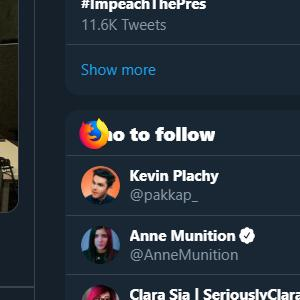firefox: (79, 116, 109, 150)
